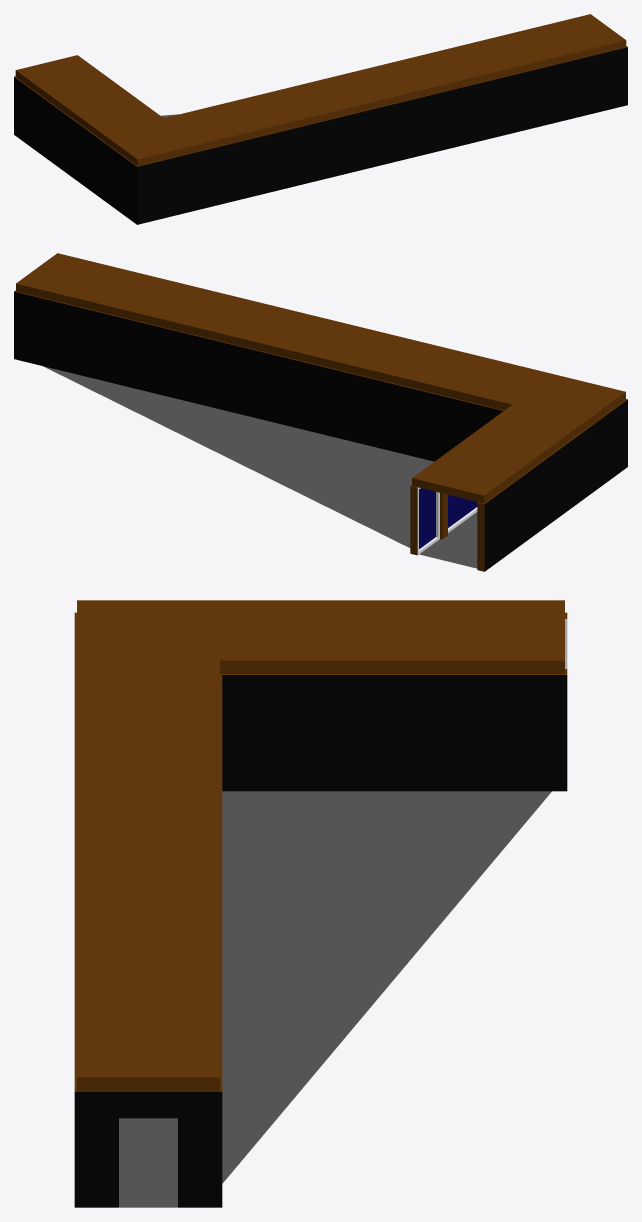
File: Corridor01.fbx
3 renders of one model, top to bottom at view 1: azimuth 30°, elevation 25°; view 2: azimuth 150°, elevation 25°; view 3: azimuth 270°, elevation 25°, orthographic. The views are drawn at different scales.
Visible parts, largest first — view 1: Model; view 2: Model; view 3: Model.
Boxes of the visible parts, x1,y1,x2,y2 form: Model: (14,14,627,224); Model: (14,253,627,571); Model: (74,600,567,1207).
Bounding box in the file's own units: 23 × 2.9 × 10.
